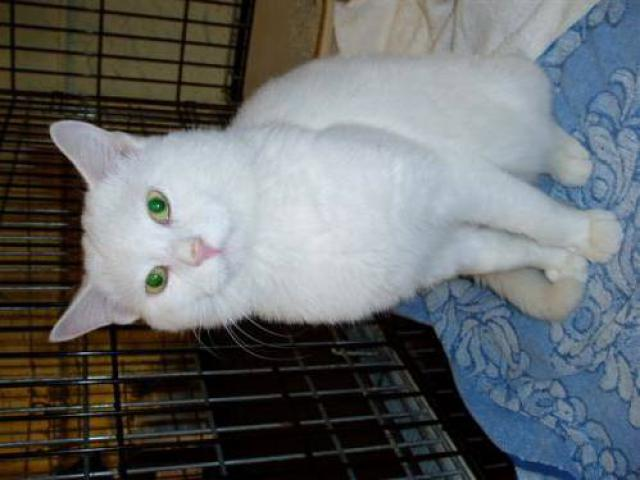cat: (53, 49, 610, 346)
